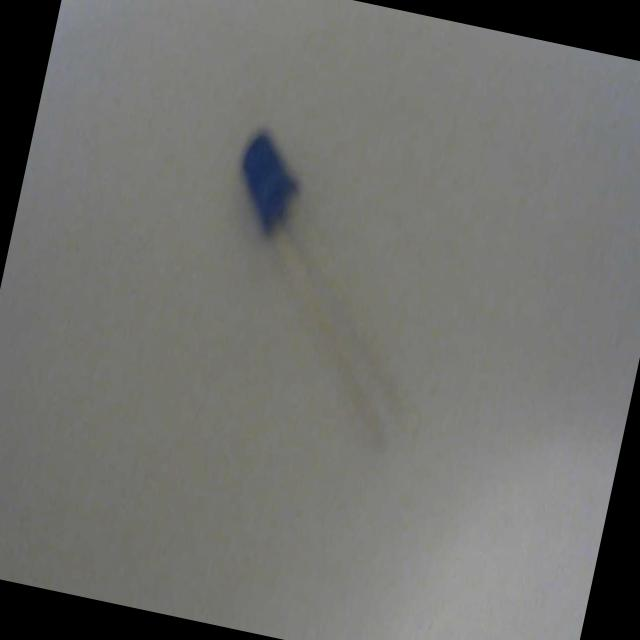blue_led: (228, 126, 310, 240)
